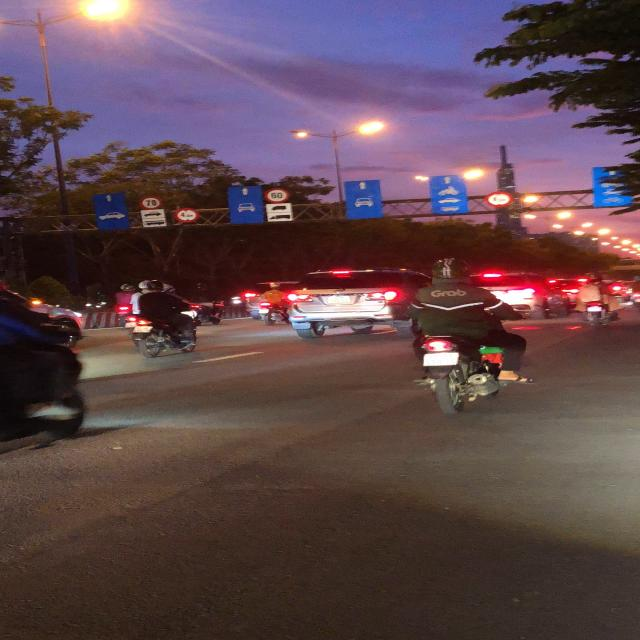Bien bao toc do toi da cho phep: (264, 186, 293, 203), (172, 207, 200, 224), (139, 196, 164, 210)
